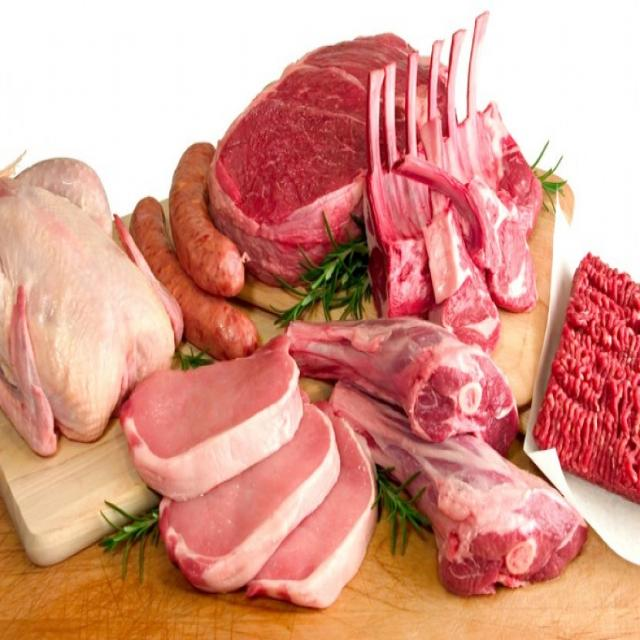Beef: (211, 24, 478, 273), (410, 182, 503, 350), (476, 91, 556, 235), (462, 179, 538, 313)
